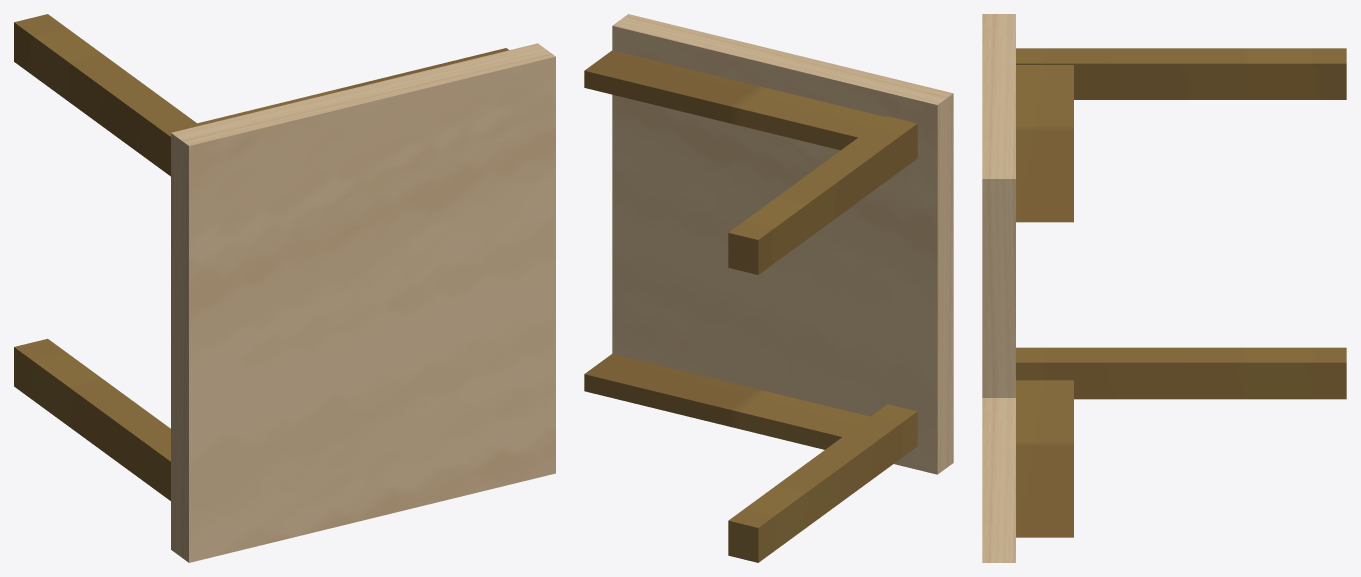
The model's file is pz_table_tables_high_01_large_light_oak_0_0.obj.
3 views of the same model, side by side, from view 1: azimuth 30°, elevation 25°; view 2: azimuth 150°, elevation 25°; view 3: azimuth 270°, elevation 25° (orthographic). The views are drawn at different scales.
Size of the model in its own units: 0.875 by 0.95 by 0.8165.
Materials: 1 (1 with a texture image).
